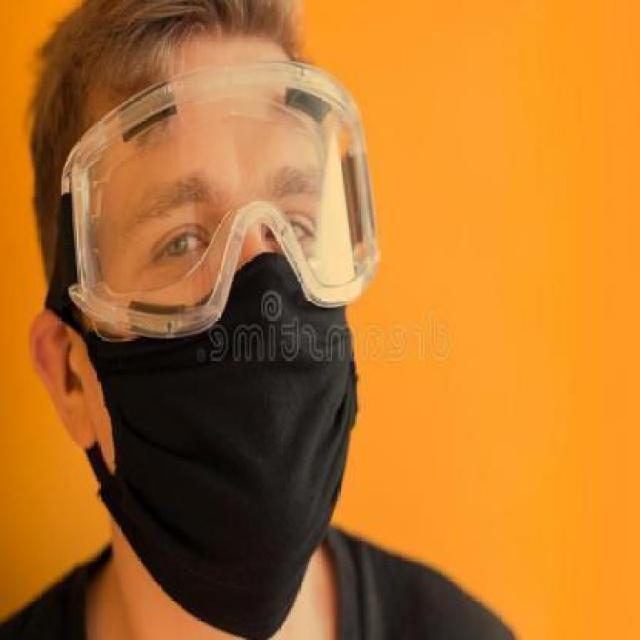face_mask: (73, 148, 365, 610)
glasses: (63, 59, 380, 347)
